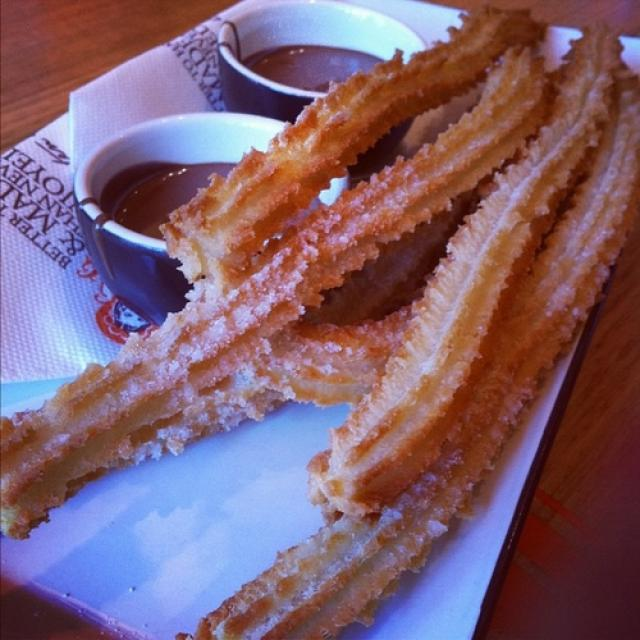炸货点心: (15, 15, 612, 616)
